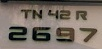character: (55, 26, 75, 42), (32, 25, 51, 41), (79, 26, 97, 42), (8, 25, 27, 40), (75, 9, 88, 19), (20, 8, 31, 18), (32, 8, 42, 19), (59, 9, 70, 19), (47, 9, 59, 18)
